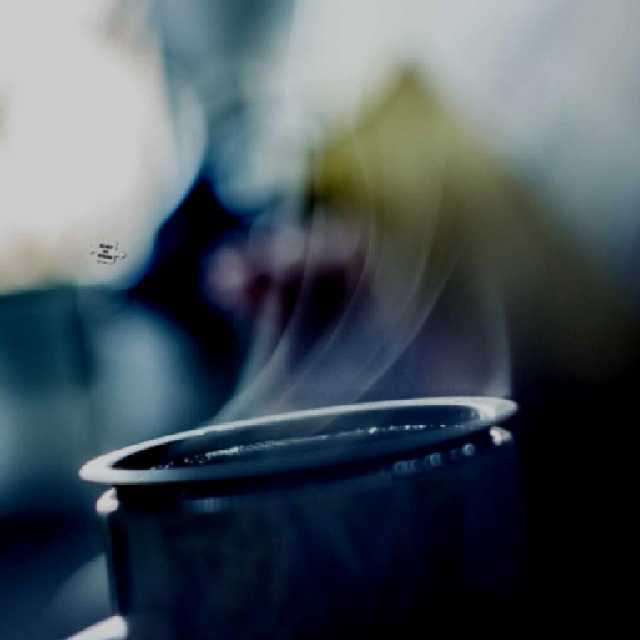DO_NOT_GO_AROUND: (85, 237, 125, 263)
